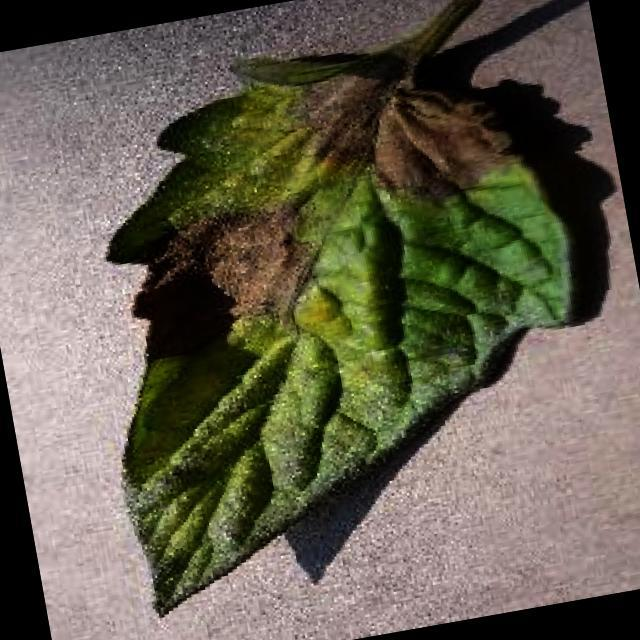Tomato late blight leaf: (54, 16, 622, 625)
